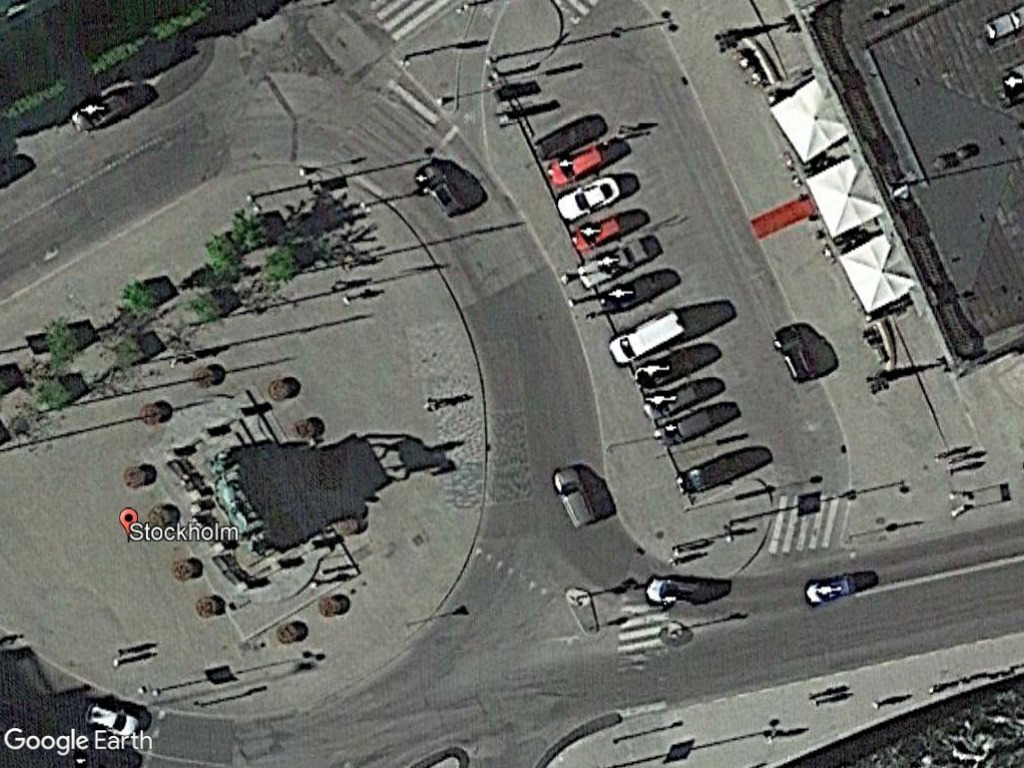car: (540, 133, 616, 192), (552, 170, 628, 226), (410, 156, 473, 223), (546, 462, 602, 533), (68, 84, 139, 138), (768, 325, 823, 388)
van: (603, 308, 692, 368)
